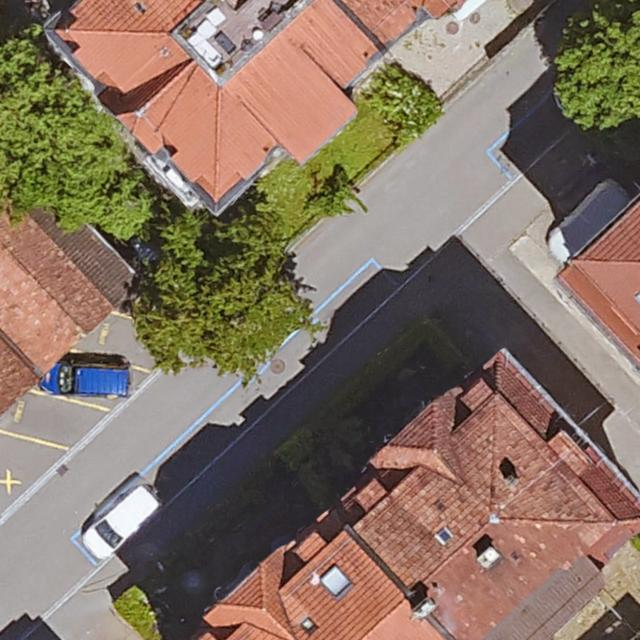tree: (139, 215, 293, 369), (1, 66, 137, 206), (553, 11, 640, 131)
